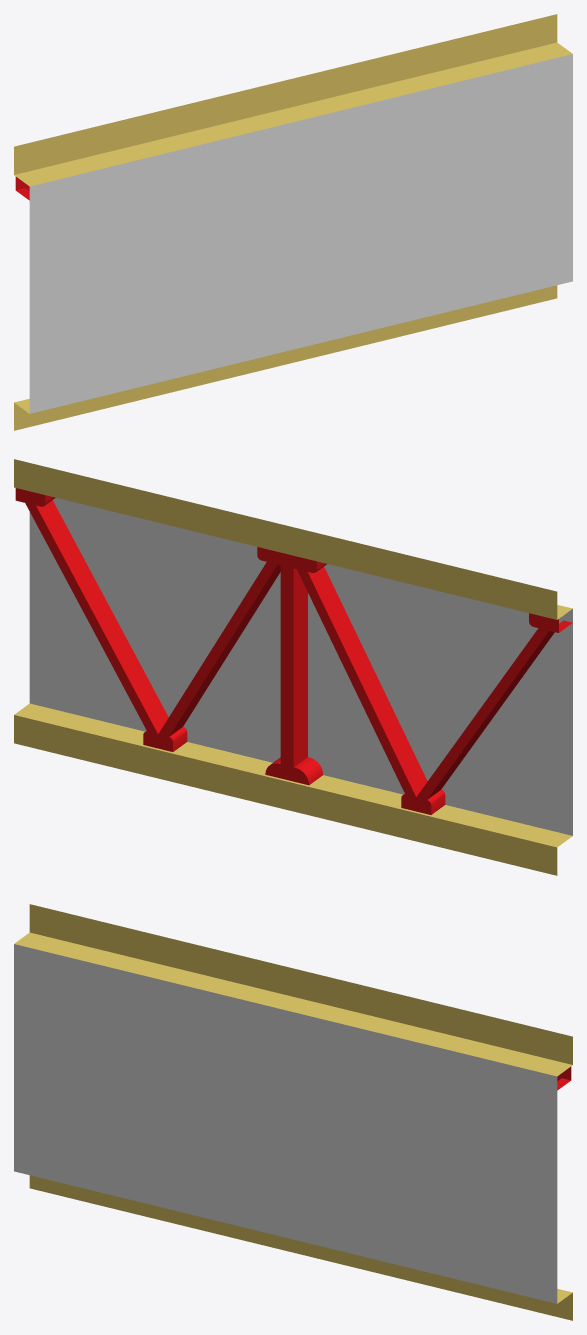
File: Framerails03.fbx
The picture shows the model from 3 angles, top to bottom: view 1: azimuth 30°, elevation 25°; view 2: azimuth 150°, elevation 25°; view 3: azimuth 330°, elevation 25°; orthographic projection.
Parts seen in each view (by area): view 1: Cube.025; view 2: Cube.025; view 3: Cube.025.
Boxes of the visible parts, x1=… form: Cube.025: x1=14, y1=14, x2=572, y2=430; Cube.025: x1=14, y1=459, x2=572, y2=875; Cube.025: x1=14, y1=904, x2=572, y2=1320.
Bounding box in the file's own units: 20 × 10 × 1.
